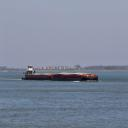tugboat: (22, 65, 37, 83)
